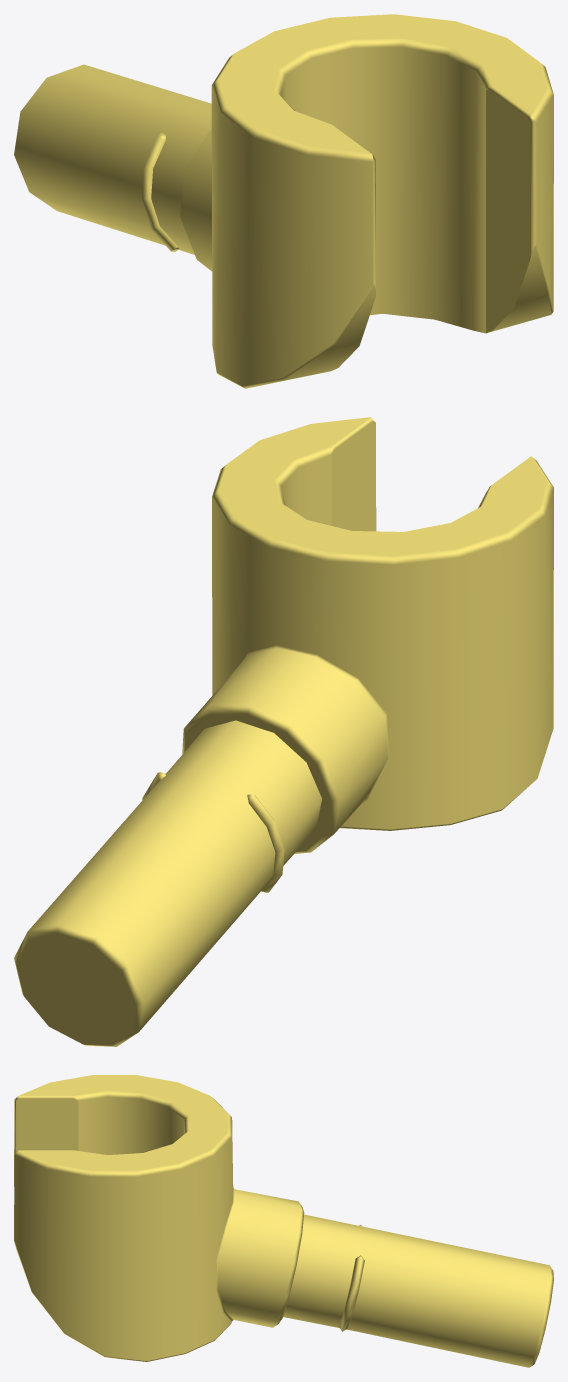
Rendered from pr_Hand_0001_inst_0.glb.
3 views of the same model, one above another, from view 1: azimuth 30°, elevation 25°; view 2: azimuth 150°, elevation 25°; view 3: azimuth 270°, elevation 25° (orthographic). The views are drawn at different scales.
Parts seen in each view (by area): view 1: pr_Hand_0001_inst_0; view 2: pr_Hand_0001_inst_0; view 3: pr_Hand_0001_inst_0.
Boxes of the visible parts, bbox=[...] form: pr_Hand_0001_inst_0: bbox=[14, 14, 553, 388]; pr_Hand_0001_inst_0: bbox=[14, 417, 553, 1046]; pr_Hand_0001_inst_0: bbox=[14, 1075, 553, 1367].
Size of the model in its own units: 0.00497 by 0.00553 by 0.0113.
